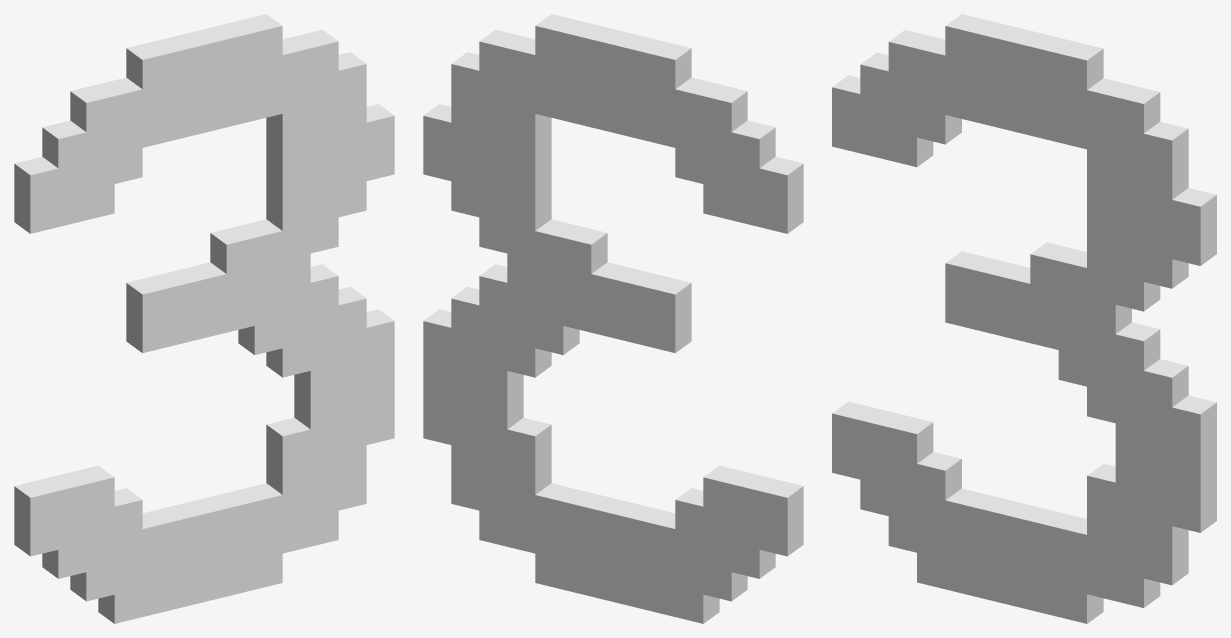
The picture shows the model from 3 angles, left to right: view 1: azimuth 30°, elevation 25°; view 2: azimuth 150°, elevation 25°; view 3: azimuth 330°, elevation 25°; orthographic projection.
Visible parts, largest first — view 1: box_76; view 2: box_76; view 3: box_76.
Boxes of the visible parts, <box> form: box_76: <box>14,14,394,623</box>; box_76: <box>423,14,803,623</box>; box_76: <box>832,14,1216,623</box>.
Size of the model in its own units: 1.3 by 1.9 by 0.1.
Materials: 1 (1 with a texture image).
